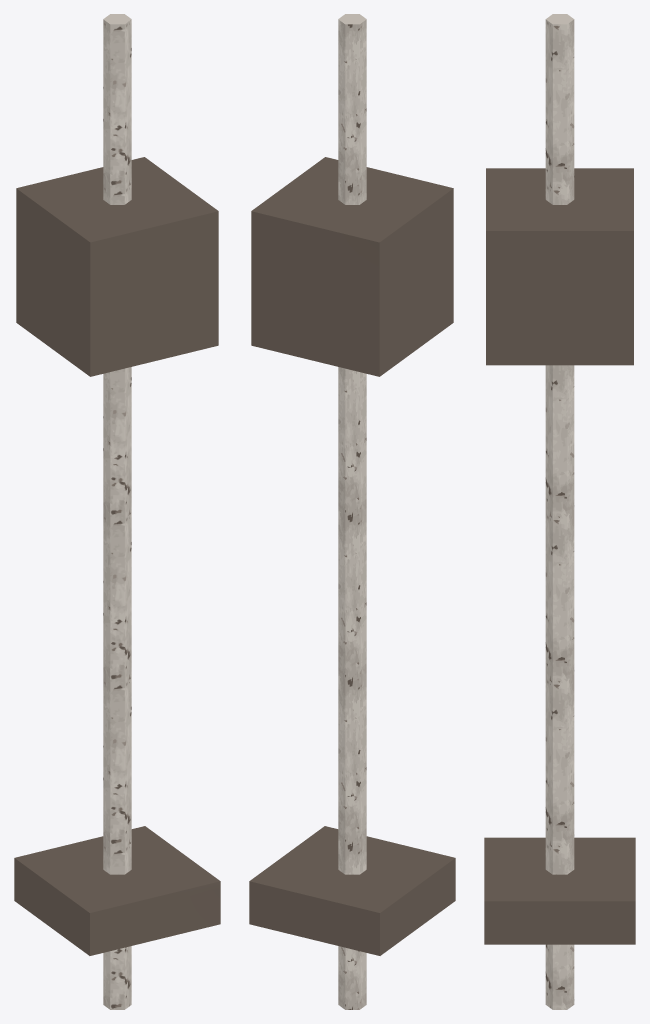
File: viga1.glb
3 views of the same model, side by side, from view 1: azimuth 30°, elevation 25°; view 2: azimuth 150°, elevation 25°; view 3: azimuth 270°, elevation 25° (orthographic).
Parts seen in each view (by area): view 1: Antenna_3; view 2: Antenna_3; view 3: Antenna_3.
Boxes of the visible parts, bbox=[...] form: Antenna_3: bbox=[14, 14, 220, 1009]; Antenna_3: bbox=[249, 14, 455, 1009]; Antenna_3: bbox=[484, 14, 635, 1009].
Size of the model in its own units: 1.04 by 7.49 by 1.04.
Materials: 1 (1 with a texture image).
